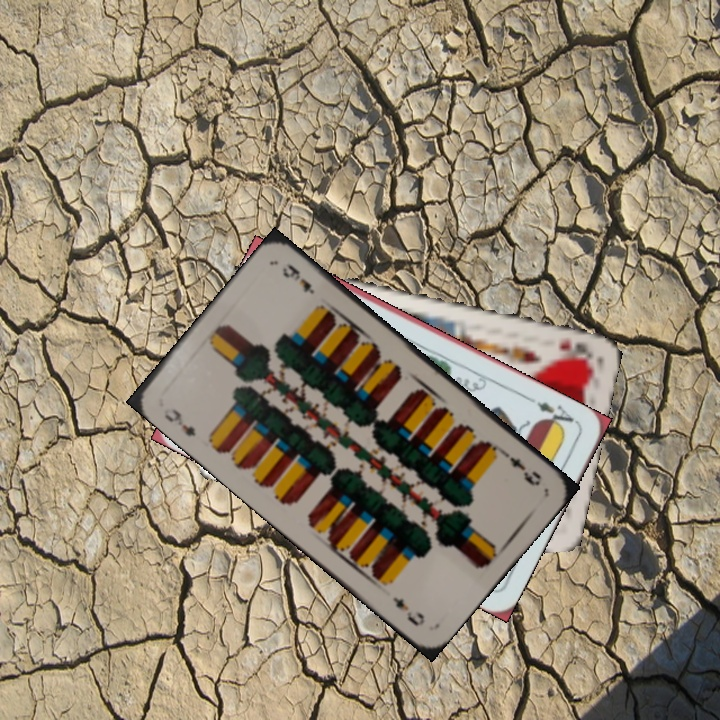E9: (497, 446, 544, 489), (160, 404, 199, 439)
EA: (525, 393, 581, 433)
HK: (555, 336, 590, 363)
